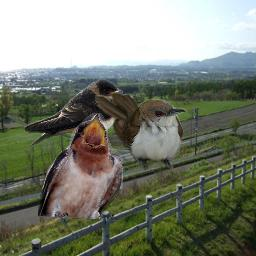Cuckoo: (95, 92, 187, 174)
Swallow: (38, 113, 123, 226), (24, 79, 123, 147)
